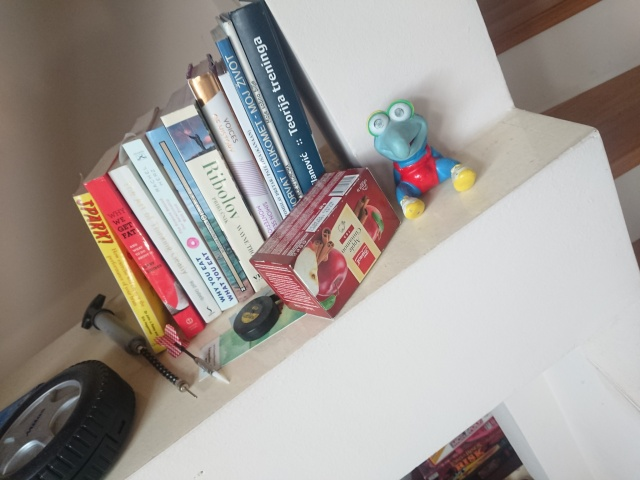Franck Apple Cinnamon Tea 60g: (246, 164, 403, 322)
